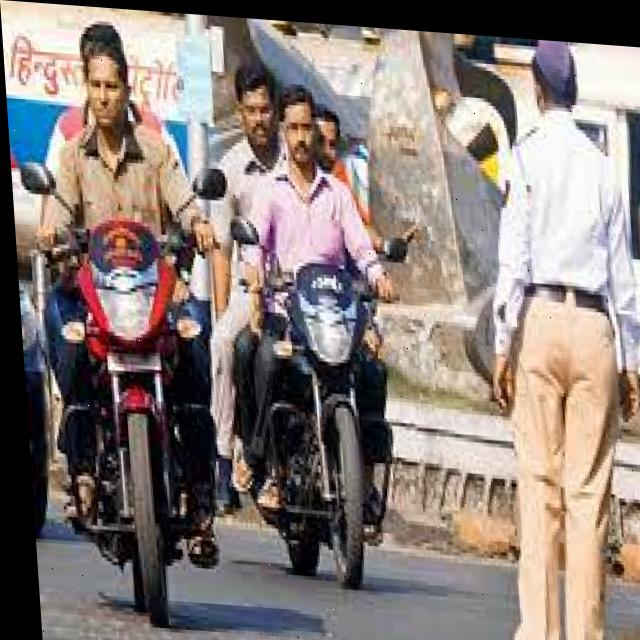without helmet: (72, 15, 135, 137), (273, 63, 322, 172)
